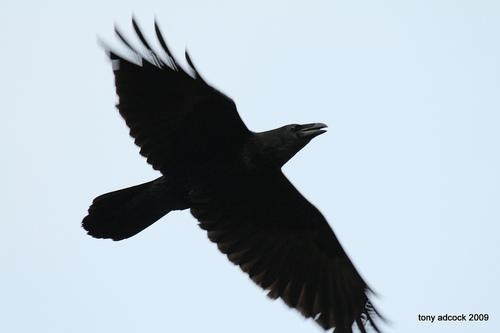bird: (77, 11, 381, 332)
